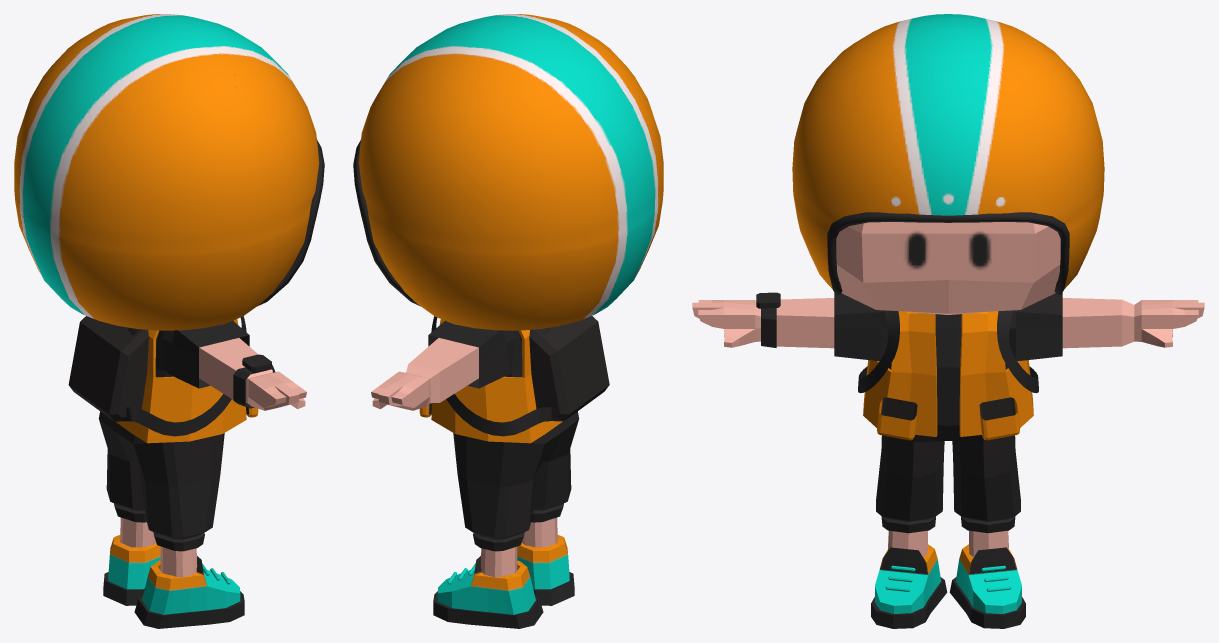
The picture shows the model from 3 angles, left to right: view 1: azimuth 30°, elevation 25°; view 2: azimuth 150°, elevation 25°; view 3: azimuth 270°, elevation 25°; orthographic projection.
Visible parts, largest first — view 1: body; view 2: body; view 3: body.
Part boxes in pixels (box(x1,y1,x2,y2)): body: box(14, 14, 324, 628); body: box(353, 14, 663, 628); body: box(692, 14, 1204, 628).
Size of the model in its own units: 201 by 411 by 331.
